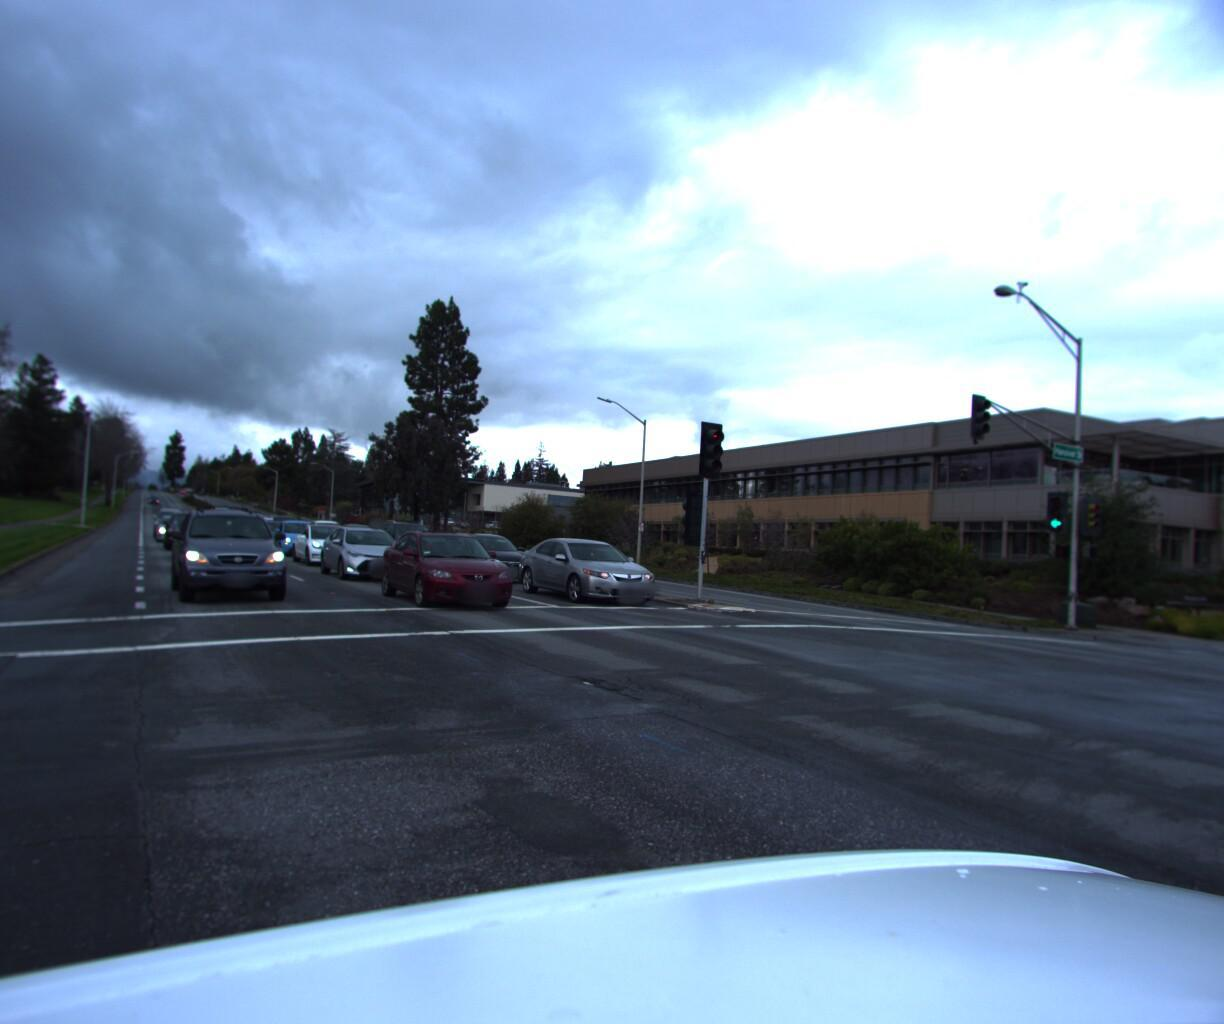car: (368, 531, 532, 623), (159, 504, 296, 611), (504, 539, 674, 620), (314, 526, 427, 592), (430, 536, 548, 592), (370, 522, 457, 576), (287, 525, 374, 578), (158, 514, 221, 560), (266, 521, 332, 564), (331, 529, 396, 565), (304, 525, 358, 558), (151, 520, 199, 551)
